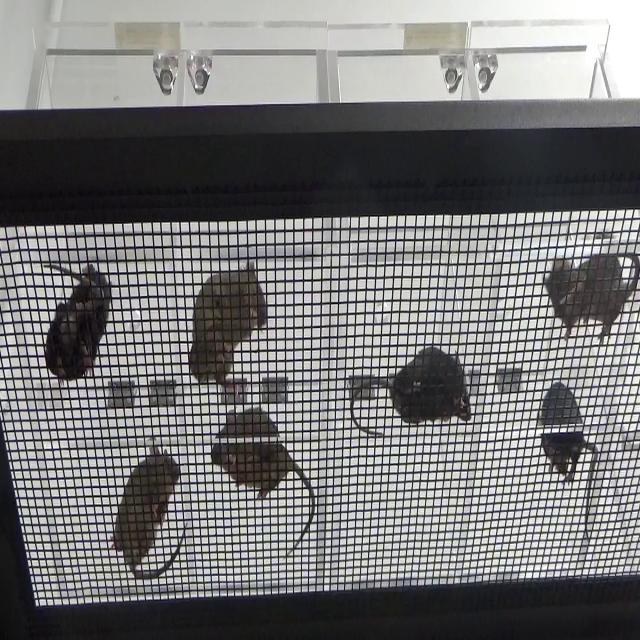scratch: (528, 246, 640, 346)
